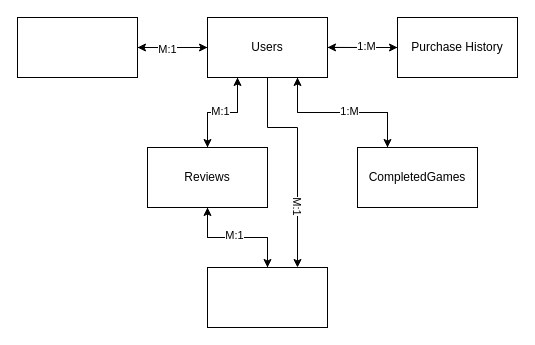
This 535x345 diagram has some shape labels left out. The centre of each missing label's shape, as x and y in pixels:
"Games" belongs at [267,297].
"Wishlist" belongs at [77,47].
